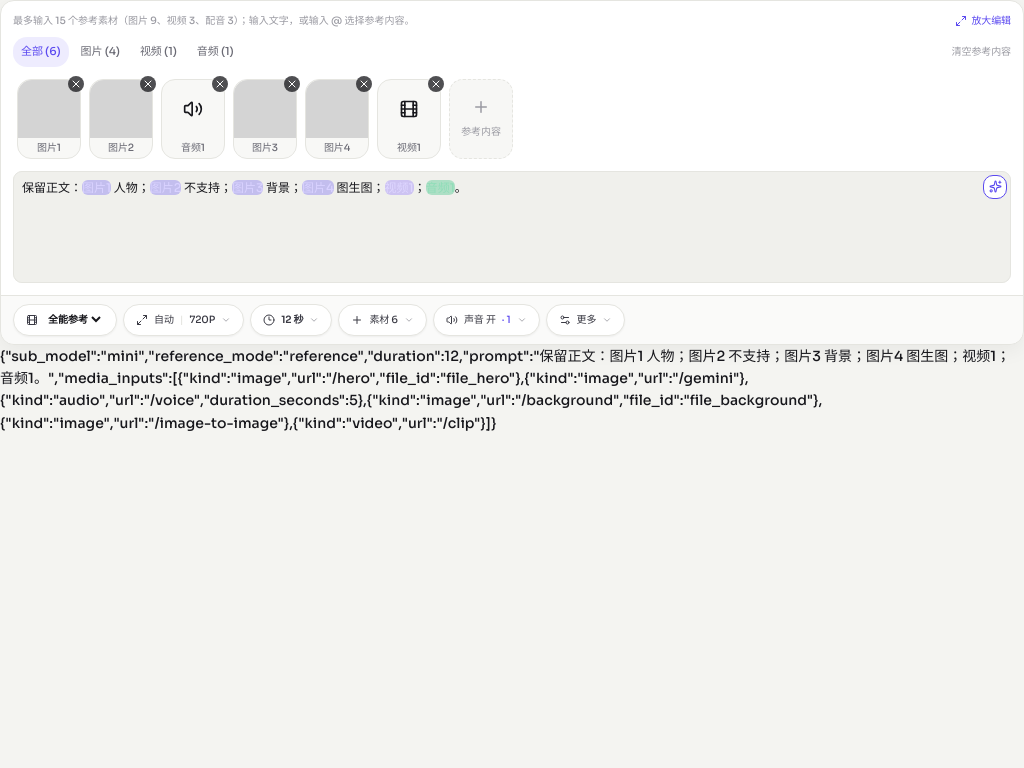
Test: portrait reference removal consent › leaves everything unchanged if the server check fails
This screenshot has width=1024, height=768.
Click the button with aria-label "高级设置": [586, 320] box x1=546 y1=304 x2=625 y2=336
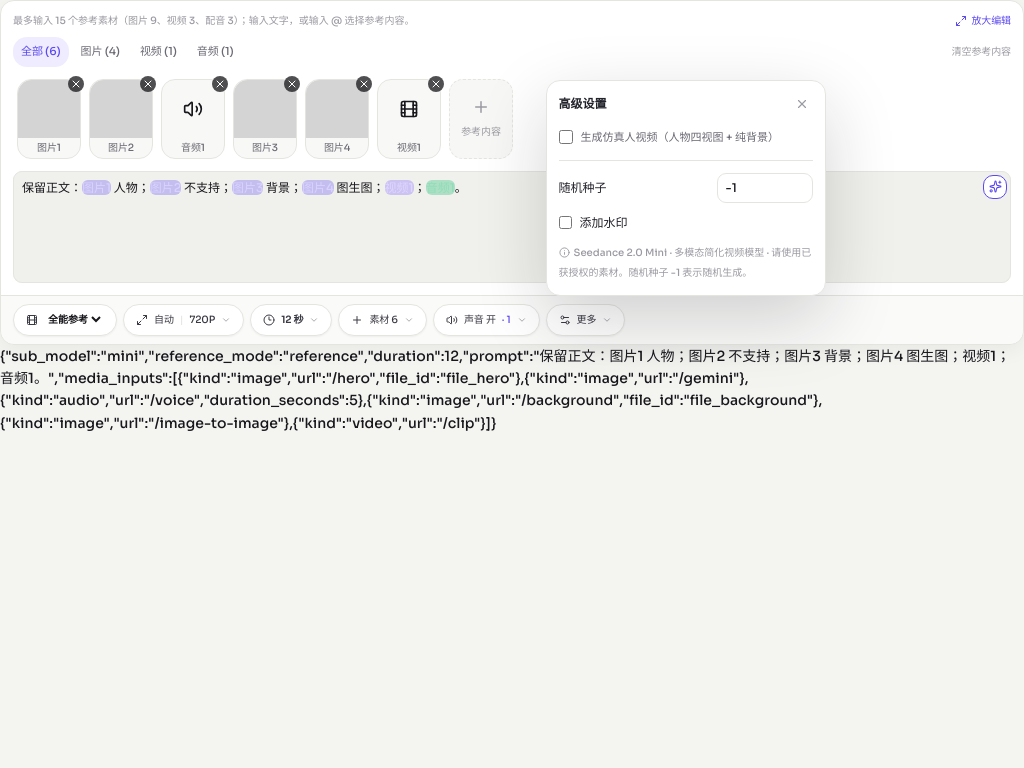
Click the checkbox labelled "生成仿真人视频（人物四视图 + 纯背景）": [566, 137] box x1=559 y1=130 x2=573 y2=144
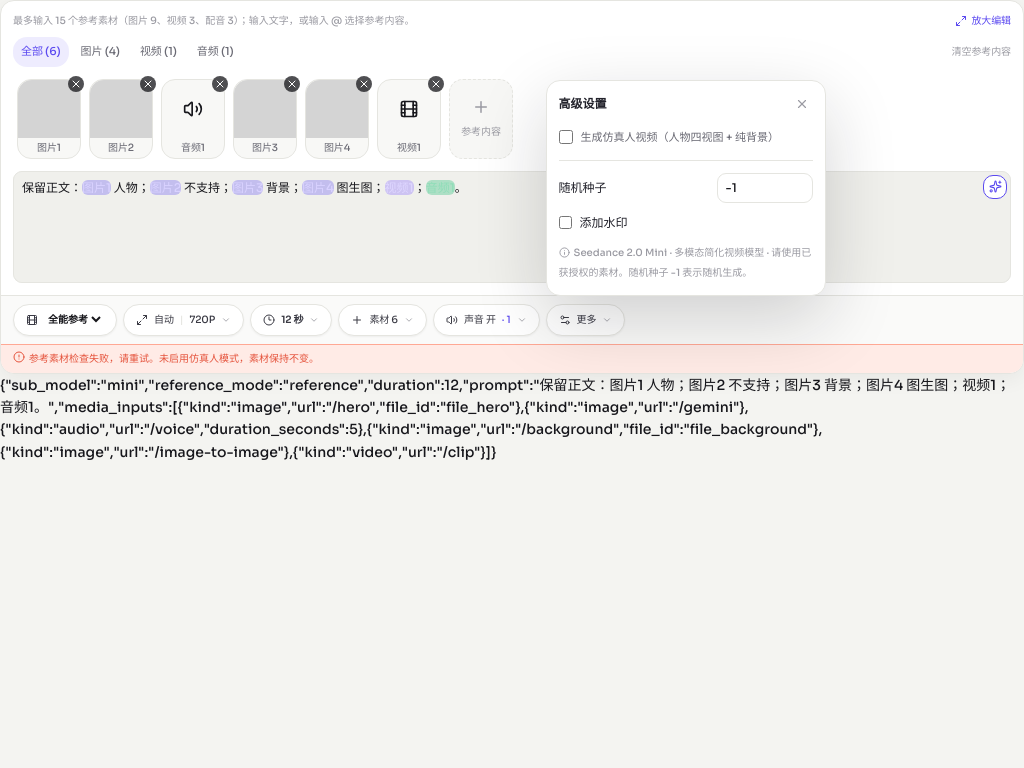
Now the checkbox labelled "生成仿真人视频（人物四视图 + 纯背景）" is not checked, box x1=559 y1=130 x2=573 y2=144
Now the message shows "参考素材检查失败", box x1=29 y1=352 x2=319 y2=365
